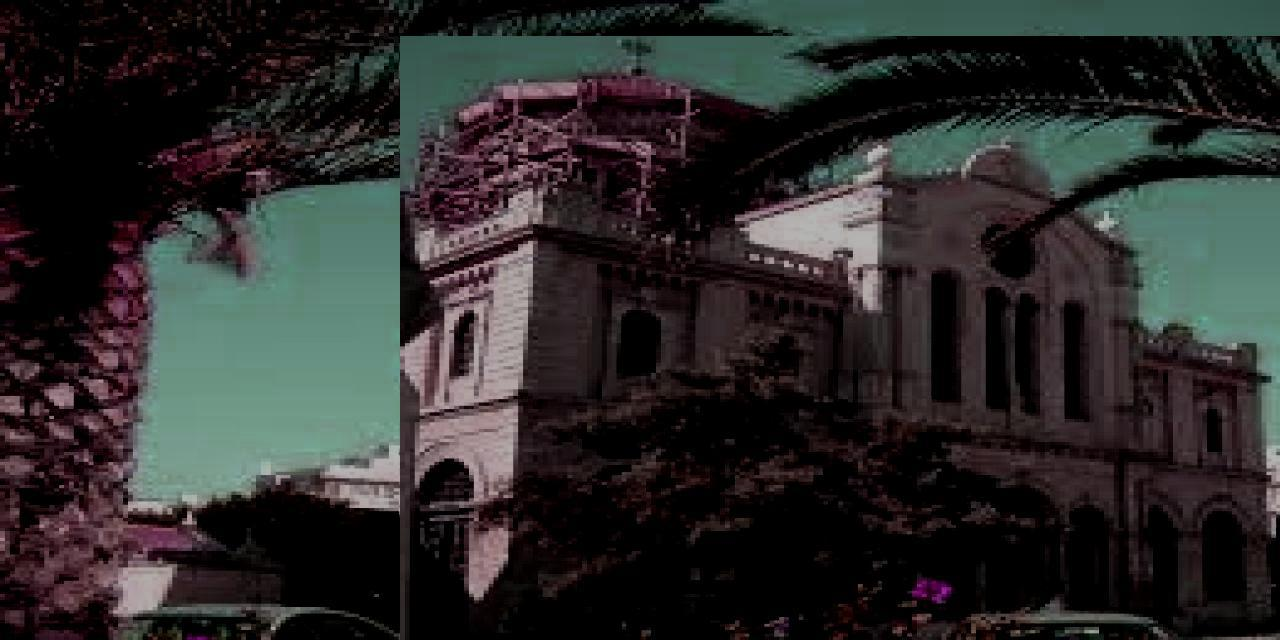Agios Minas: (401, 37, 1280, 640)
